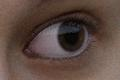eye: (58, 23, 85, 51)
